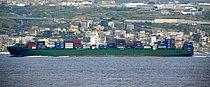Ship: (5, 27, 198, 60)
